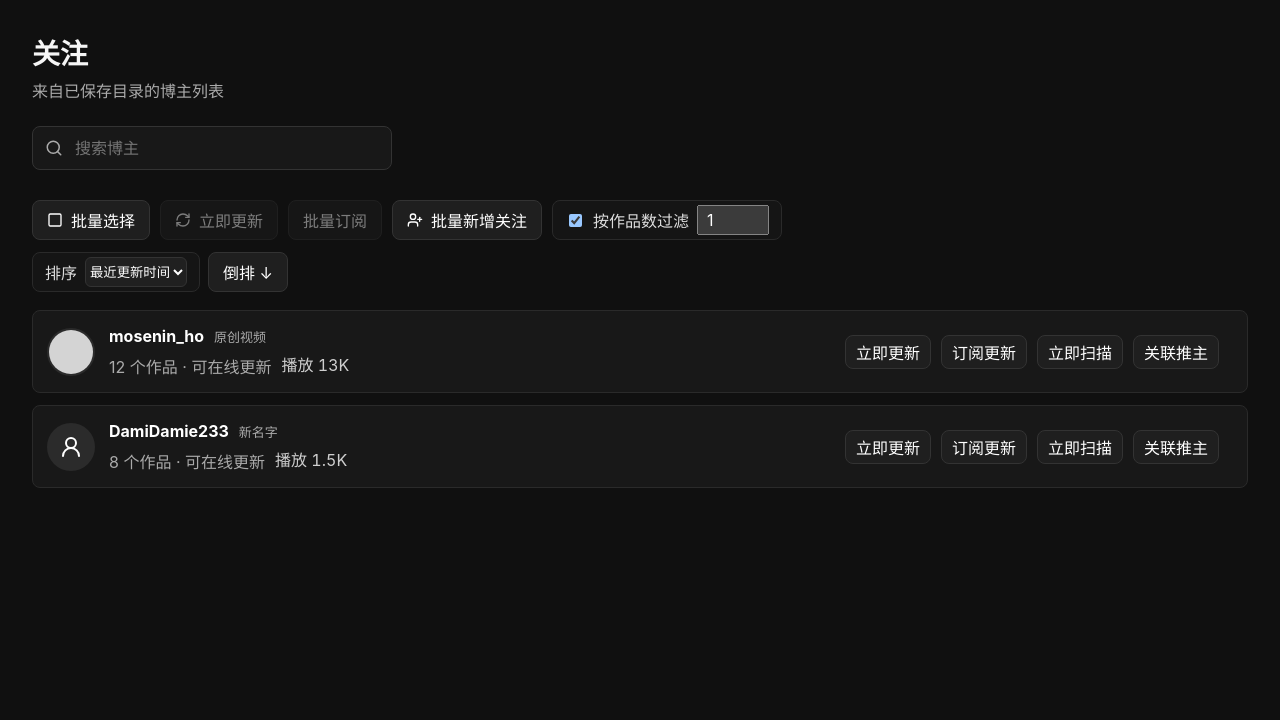
Test: filters creators by minimum work count
Expected: the text "mosenin_ho" is shown, [109,326,204,346]
Expected: the text "empty_creator" is not shown
Click the checkbox labelled "按作品数过滤": (576, 220) [569,214,582,226]
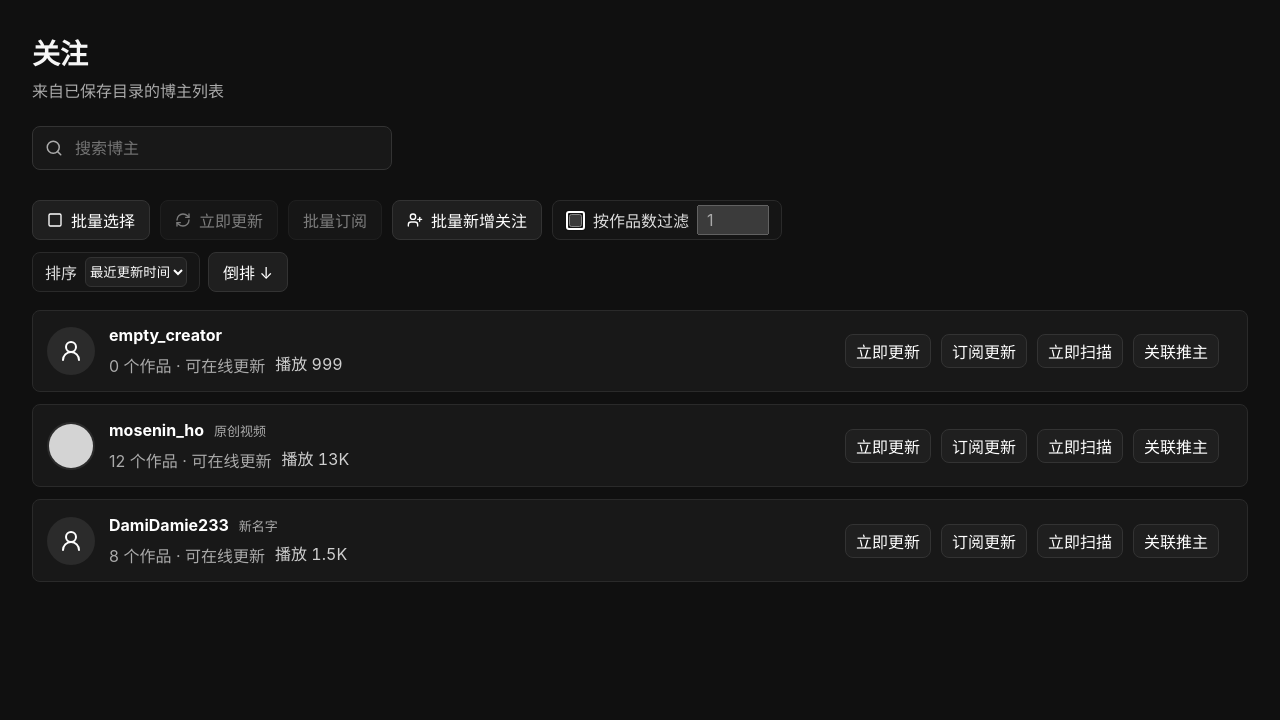
Expected: the text "empty_creator" is shown, [109,325,222,345]
Click the checkbox labelled "按作品数过滤": (576, 220) [569,214,582,226]
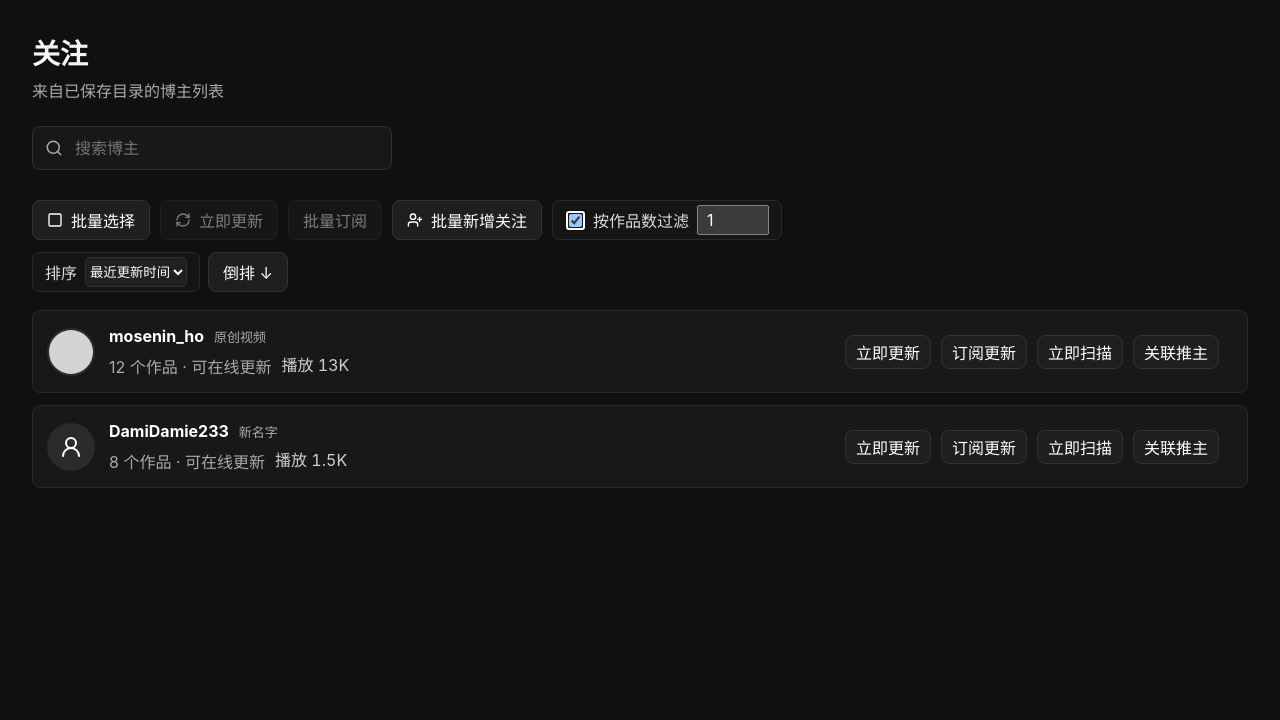
Replace the text in the number field named "最小作品数" with "10": (733, 220) [697,205,769,235]
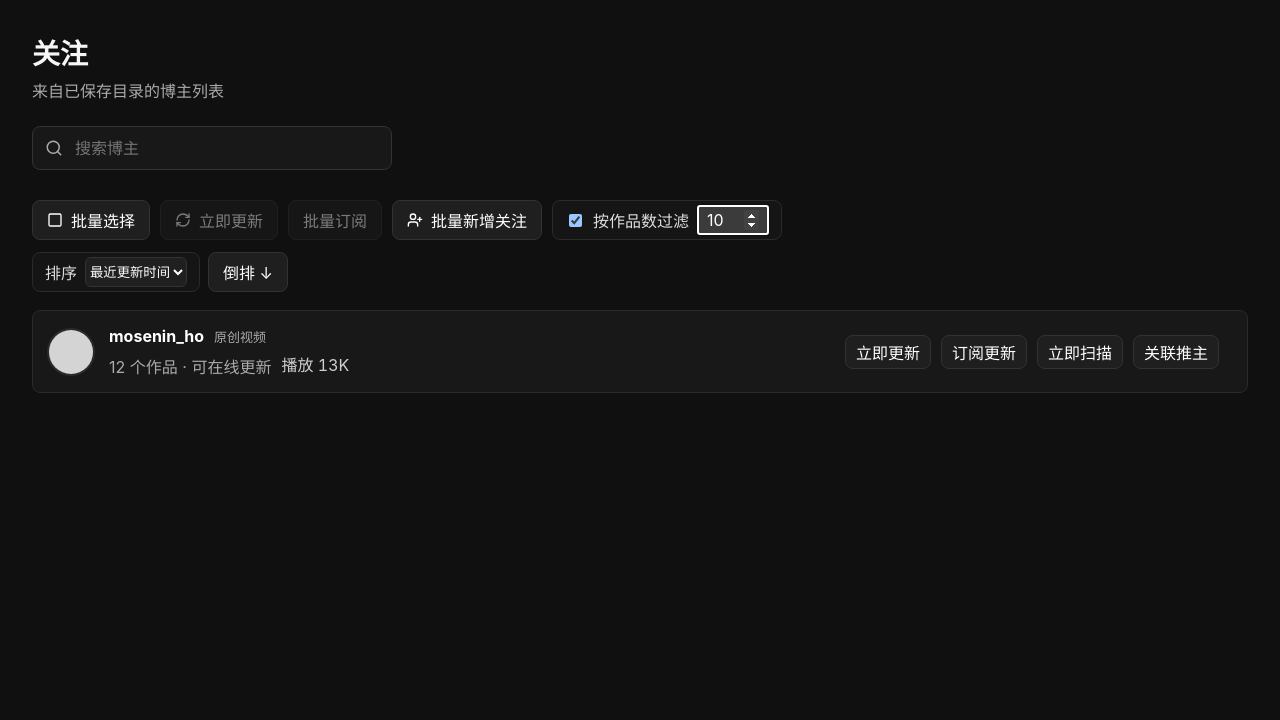
Expected: the text "mosenin_ho" is shown, [109,326,204,346]
Expected: the link "DamiDamie233" is gone
